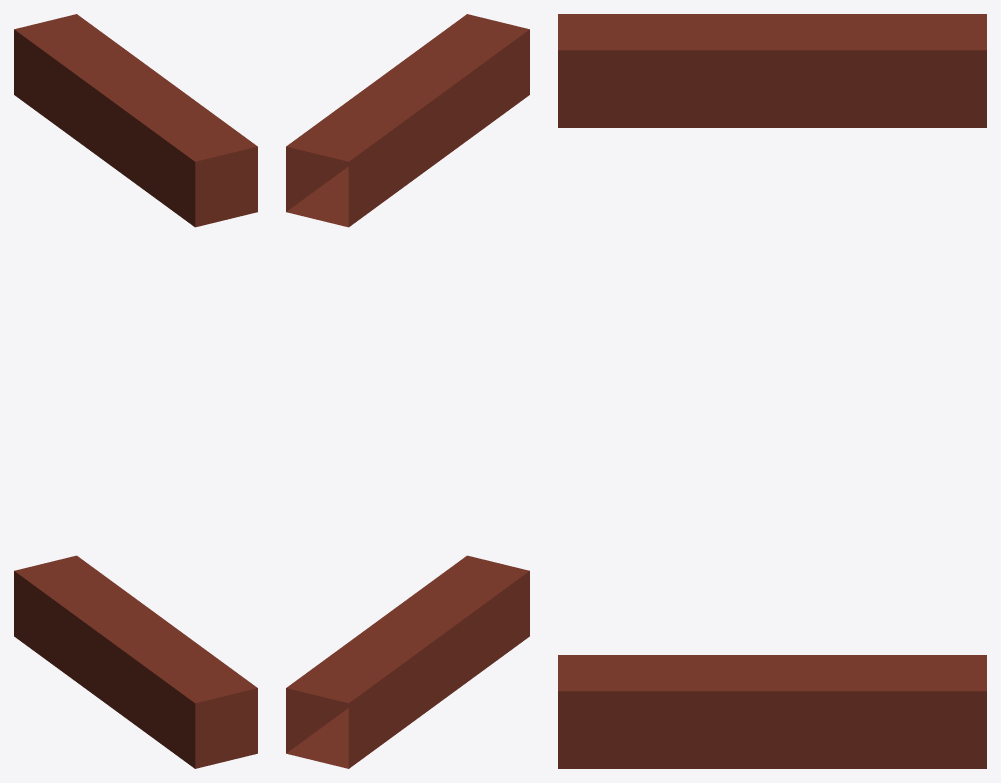
Rendered from pillar_north.glb.
3 renders of one model, left to right at view 1: azimuth 30°, elevation 25°; view 2: azimuth 150°, elevation 25°; view 3: azimuth 270°, elevation 25°, orthographic. The views are drawn at different scales.
Parts seen in each view (by area): view 1: bridge_04_pillar_north; view 2: bridge_04_pillar_north; view 3: bridge_04_pillar_north.
Part boxes in pixels (<box>): bridge_04_pillar_north: <box>14,14,257,768</box>; bridge_04_pillar_north: <box>286,14,529,768</box>; bridge_04_pillar_north: <box>558,14,986,768</box>.
Size of the model in its own units: 1.6 by 14.8 by 8.
